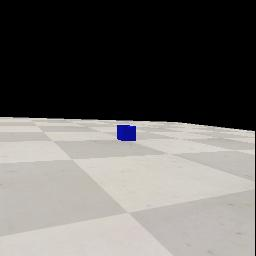box: (117, 125, 136, 141)
